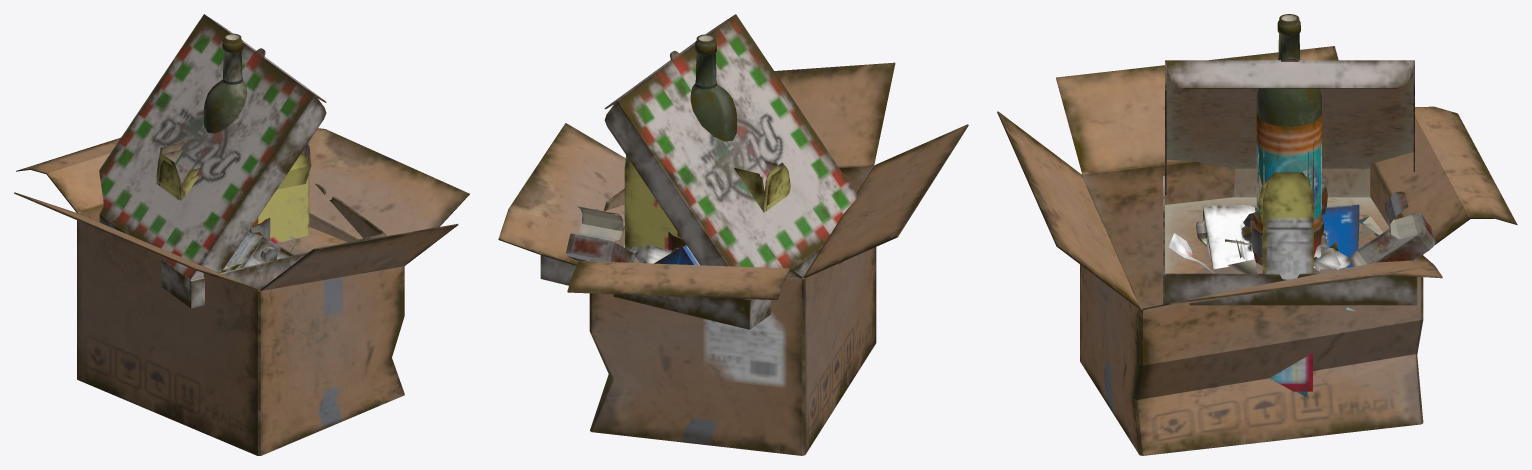
File: garbage_objs.gltf
3 views of the same model, side by side, from view 1: azimuth 30°, elevation 25°; view 2: azimuth 150°, elevation 25°; view 3: azimuth 270°, elevation 25° (orthographic). The views are drawn at different scales.
Visible parts, largest first — view 1: BOX, PIZZA_BOX, MUSELY, BOTTLE.001, CEREALS, MILK; view 2: BOX, PIZZA_BOX, MUSELY, BOTTLE.001, CEREALS, MILK, PAPER-4; view 3: BOX, PIZZA_BOX, MUSELY, MILK, BOTTLE, BOTTLE.001, PAPER-4, PAPER_3, CAN.
Boxes of the visible parts, box(x1,y1,x2,y2) form: BOX: box(14, 128, 469, 455); PIZZA_BOX: box(99, 14, 386, 308); MUSELY: box(156, 142, 309, 243); BOTTLE.001: box(204, 33, 247, 133); CEREALS: box(159, 143, 311, 200); MILK: box(226, 232, 294, 269); BOX: box(498, 62, 968, 455); PIZZA_BOX: box(540, 14, 858, 329); MUSELY: box(624, 155, 788, 249); BOTTLE.001: box(690, 34, 736, 141); CEREALS: box(760, 166, 790, 210); MILK: box(654, 245, 699, 265); PAPER-4: box(635, 243, 671, 263); BOX: box(997, 46, 1517, 455); PIZZA_BOX: box(1163, 57, 1435, 305); MUSELY: box(1262, 144, 1313, 391); MILK: box(1196, 204, 1359, 269); BOTTLE: box(1256, 114, 1321, 231); BOTTLE.001: box(1256, 14, 1321, 126); PAPER-4: box(1225, 204, 1350, 273); PAPER_3: box(1168, 216, 1382, 311); CAN: box(1250, 181, 1327, 258).
Size of the model in its own units: 1.16 by 0.9683 by 1.21.
Materials: 1 (1 with a texture image).
